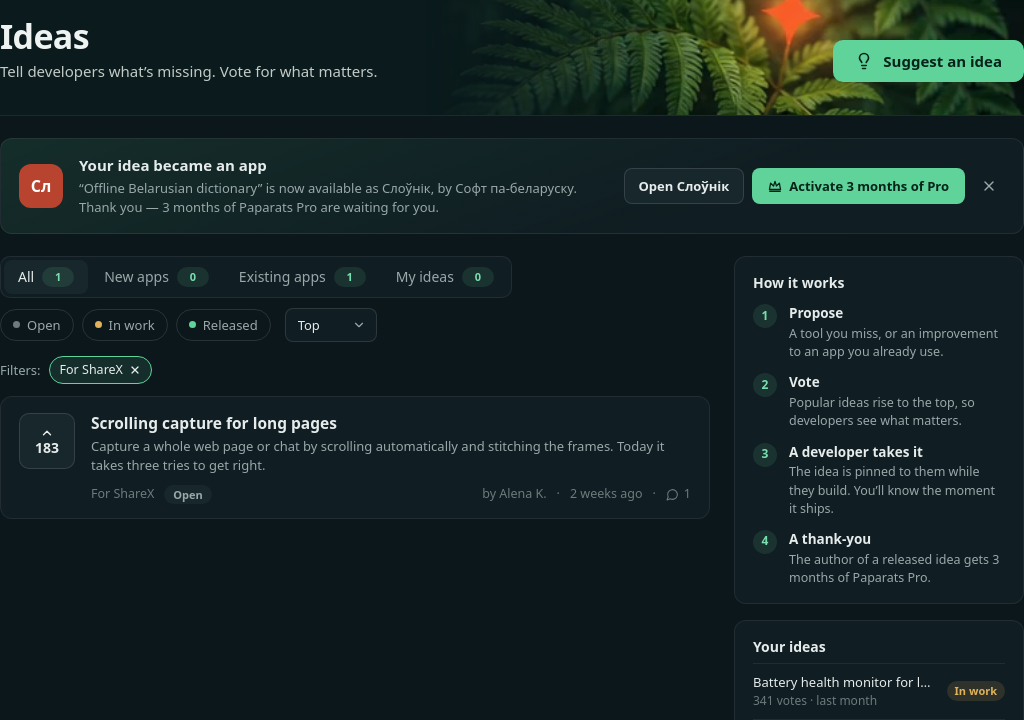
Test: IdeasScreen › opens the suggest dialog from the banner
Check: the heading "Ideas" is shown, box x1=0 y1=13 x2=89 y2=59
Click the button "Suggest an idea": (929, 61) x1=833 y1=40 x2=1023 y2=82
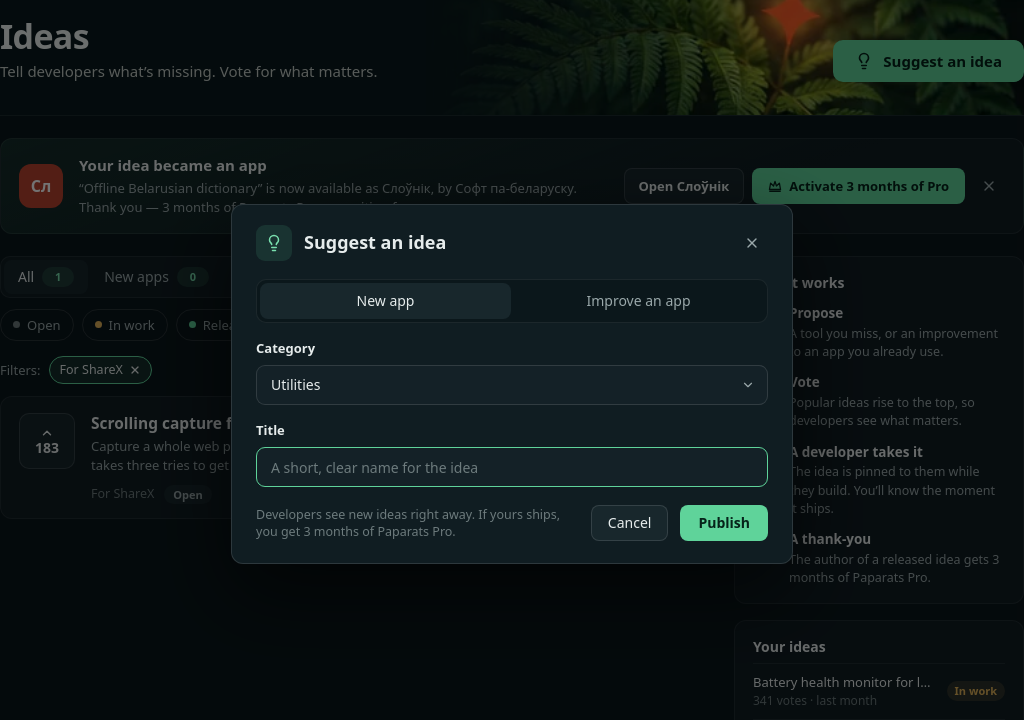
Check: the dialog "Suggest an idea" is shown, box x1=231 y1=204 x2=793 y2=564
